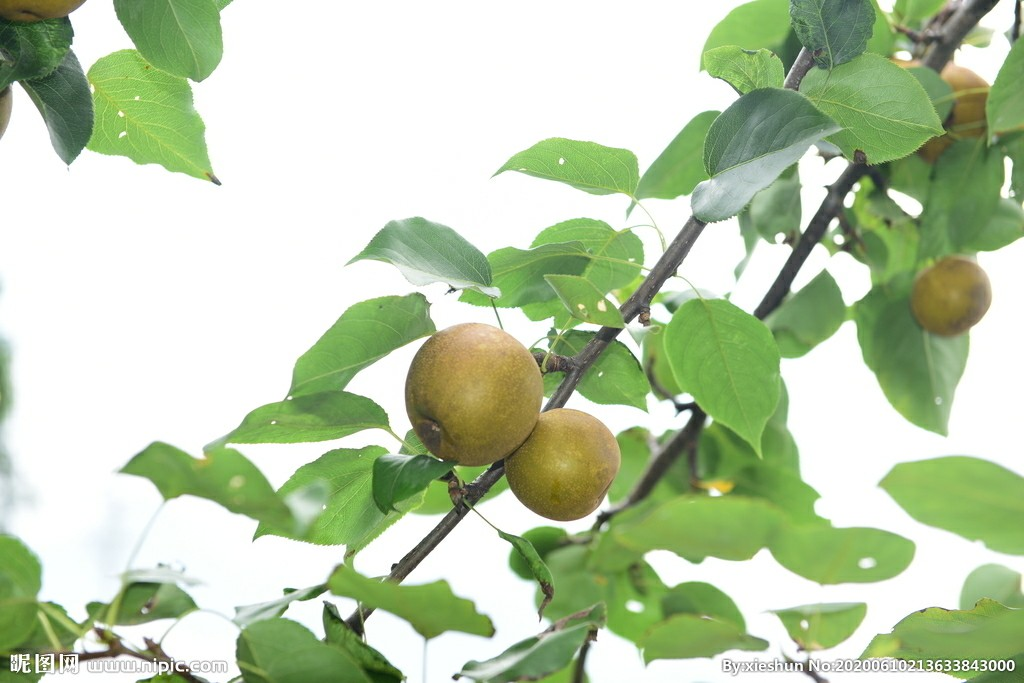pear: (405, 324, 543, 466), (501, 408, 622, 519), (908, 64, 997, 159), (902, 254, 992, 337)
